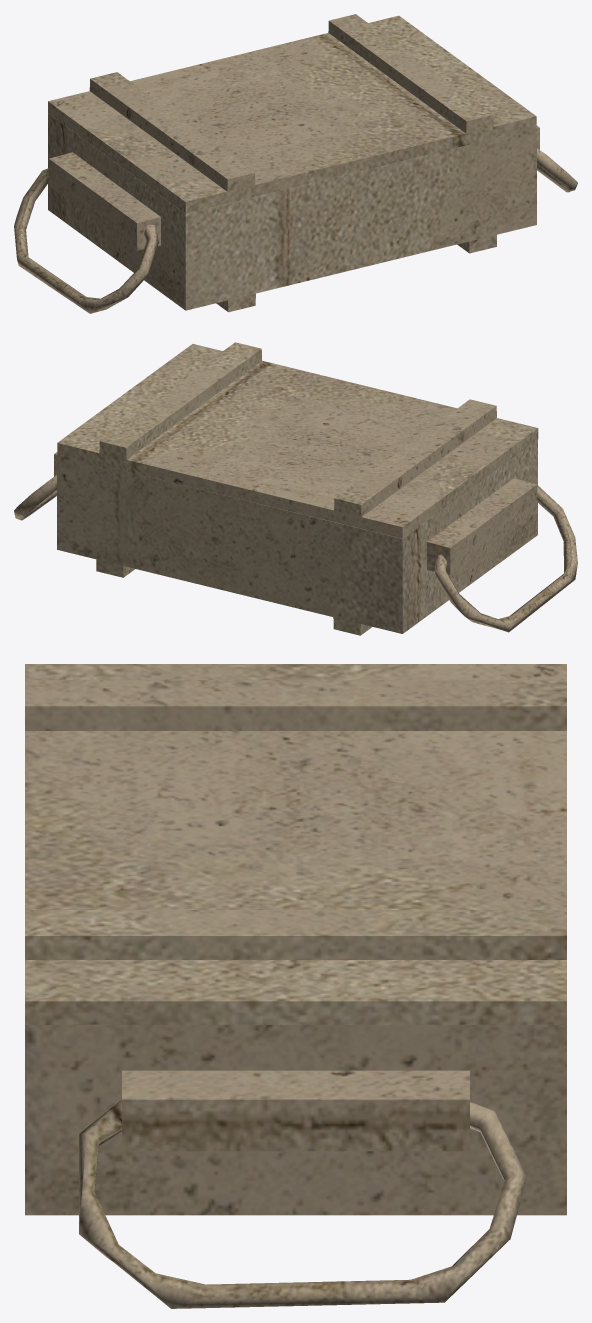
Rendered from ammoBox.glb.
The picture shows the model from 3 angles, top to bottom: view 1: azimuth 30°, elevation 25°; view 2: azimuth 150°, elevation 25°; view 3: azimuth 270°, elevation 25°; orthographic projection. The views are drawn at different scales.
Parts seen in each view (by area): view 1: AmmoCrate_Closed; view 2: AmmoCrate_Closed; view 3: AmmoCrate_Closed.
Boxes of the visible parts, <box> form: AmmoCrate_Closed: <box>14,14,577,313</box>; AmmoCrate_Closed: <box>14,342,577,635</box>; AmmoCrate_Closed: <box>25,664,566,1308</box>.
Bounding box in the file's own units: 1.26 × 0.3223 × 0.6043.
1 material, 1 textured.
